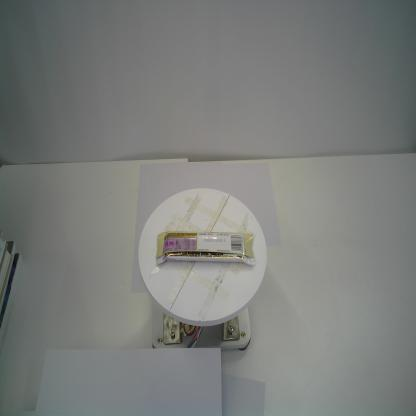Chocolate: (154, 229, 256, 269)
